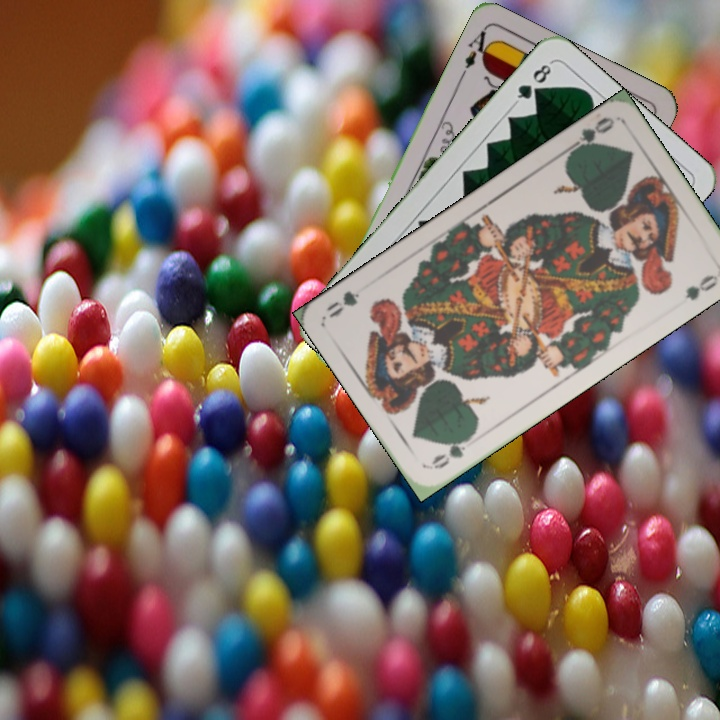EA: (456, 25, 496, 81)
G8: (511, 58, 556, 106)
GO: (562, 113, 617, 158), (427, 429, 476, 472)
